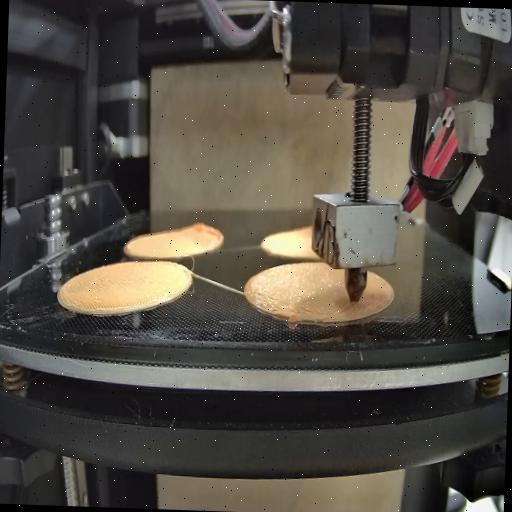over_extrusion: (185, 214, 224, 240), (332, 300, 356, 319)
